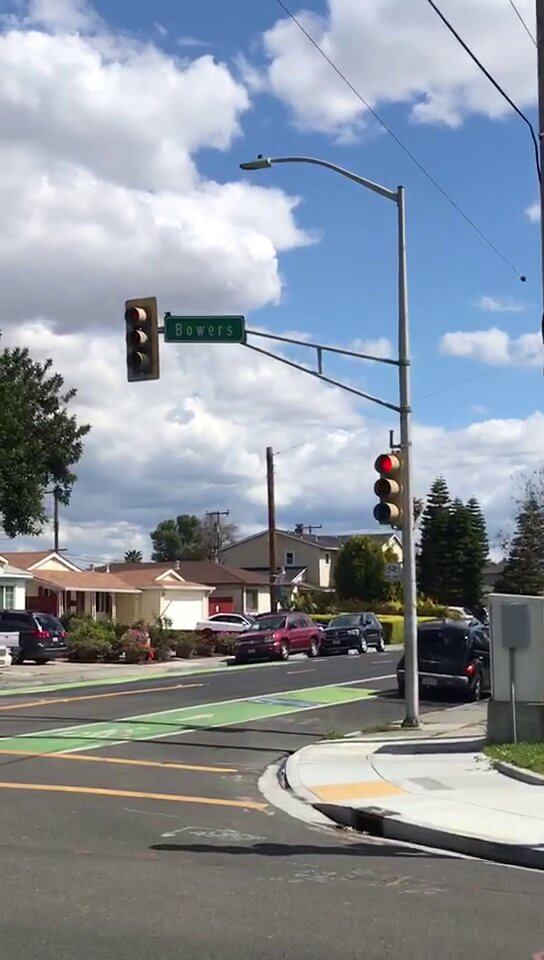red_light: (373, 452, 402, 525)
